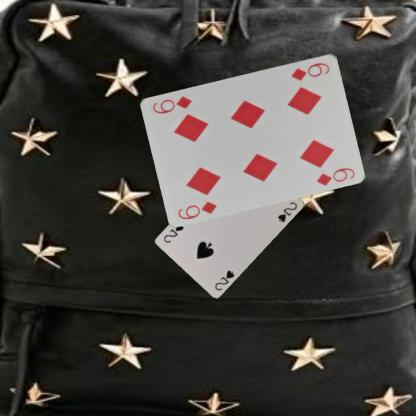2s: (212, 267, 236, 292)
6d: (175, 198, 218, 221), (289, 60, 331, 82)
